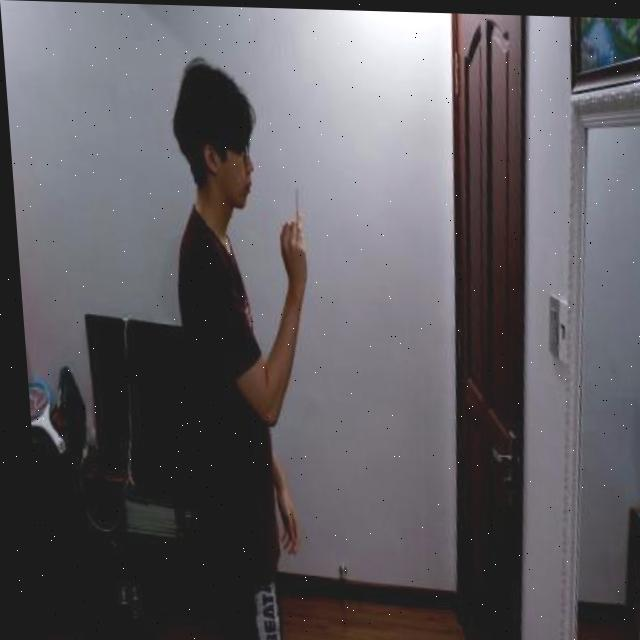cigarette: (289, 184, 298, 227)
